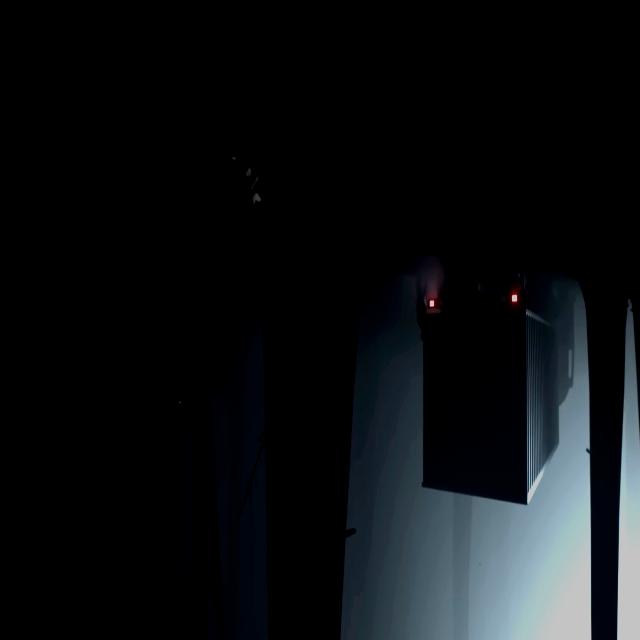boy: (229, 153, 263, 220)
